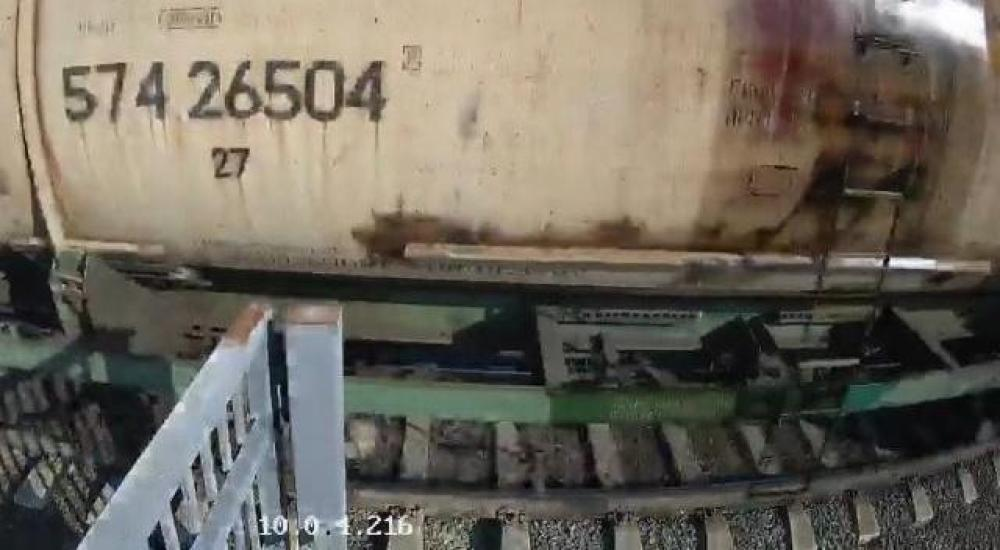Wagon-number: (57, 56, 394, 132)
